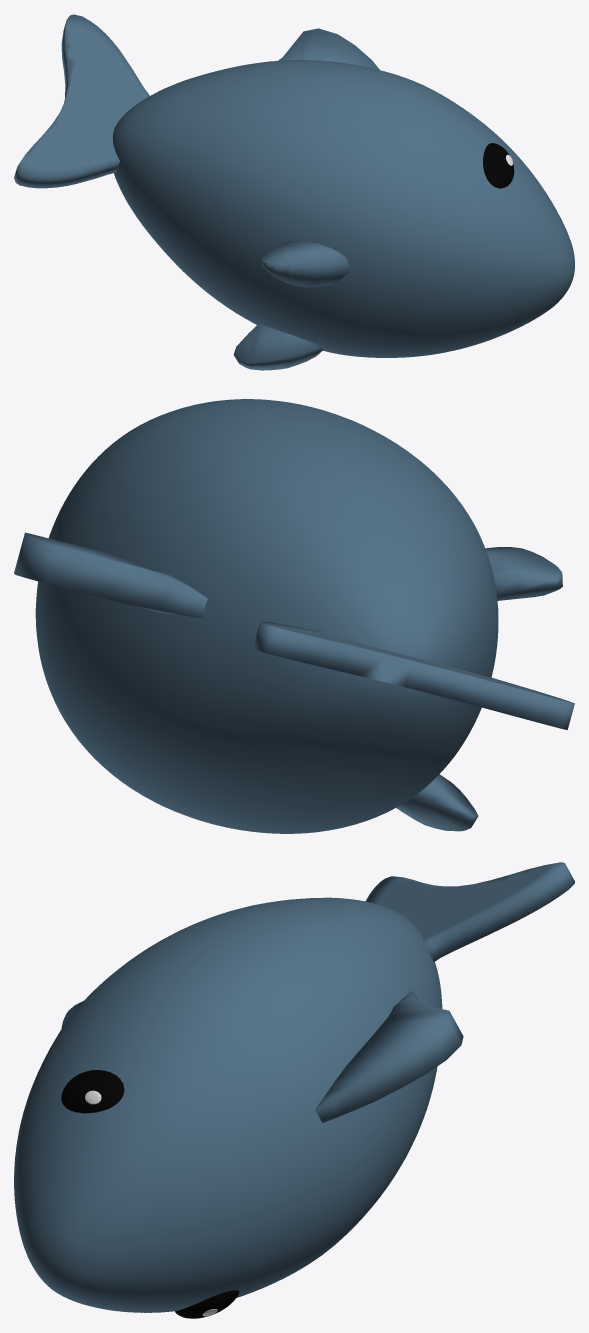
Rendered from saumon.glb.
3 views of the same model, one above another, from view 1: azimuth 30°, elevation 25°; view 2: azimuth 150°, elevation 25°; view 3: azimuth 270°, elevation 25° (orthographic). The views are drawn at different scales.
Visible parts, largest first — view 1: Cube002, Cube002_1; view 2: Cube002; view 3: Cube002, Cube002_1.
Boxes of the visible parts, left/top/right/bottom form: Cube002: left=14, top=14, right=574, bottom=370; Cube002_1: left=483, top=143, right=514, bottom=188; Cube002: left=14, top=399, right=574, bottom=833; Cube002: left=14, top=862, right=574, bottom=1312; Cube002_1: left=61, top=1070, right=239, bottom=1318.
Size of the model in its own units: 2.9 by 1.7 by 2.63.
